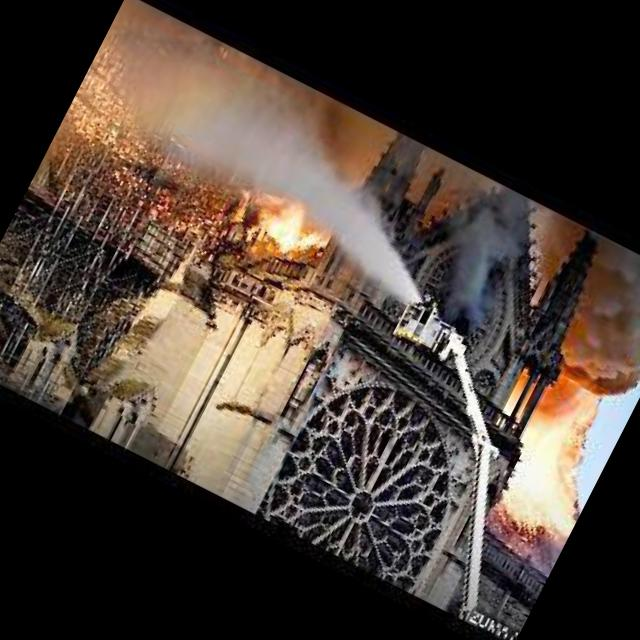fire: (92, 51, 386, 306), (454, 305, 640, 549)
